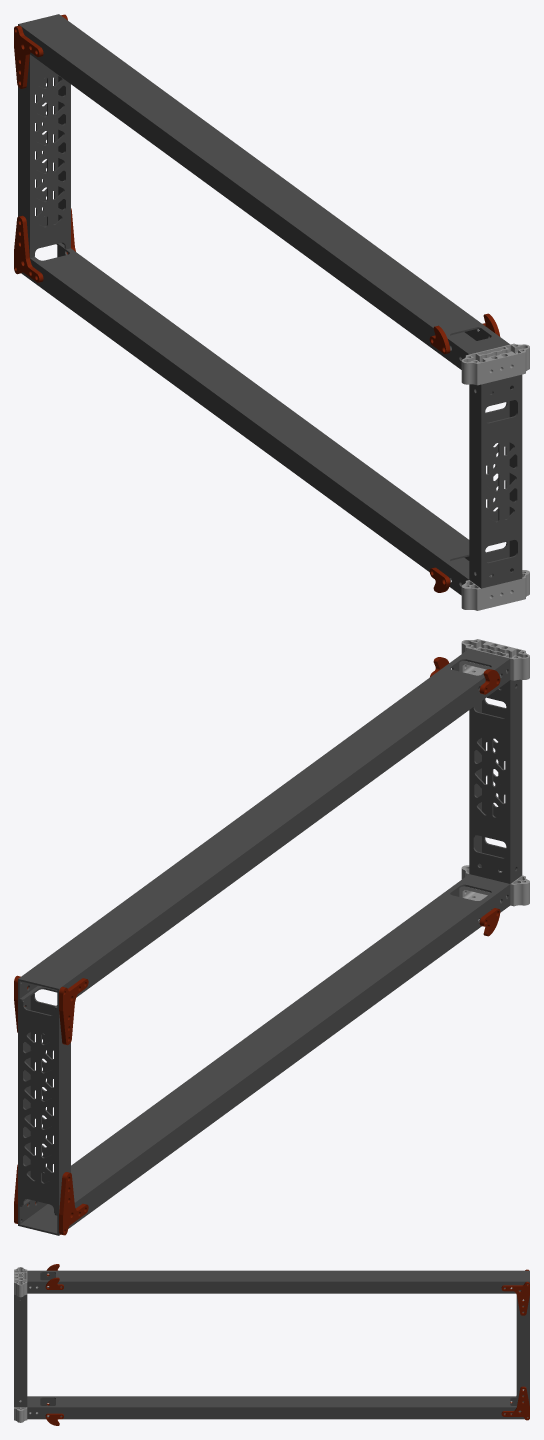
The picture shows the model from 3 angles, top to bottom: view 1: azimuth 30°, elevation 25°; view 2: azimuth 150°, elevation 25°; view 3: azimuth 270°, elevation 25°; orthographic projection. The views are drawn at different scales.
Visible parts, largest first — view 1: 0200-E-Tube-03 (×2), 0200-E-Tube-04, 0200-E-Tube-05, TR_BearingBlockV2 (×2), 0200-E-Plate-05 (×2); view 2: 0200-E-Tube-03 (×2), 0200-E-Tube-04, 0200-E-Tube-05, TR_BearingBlockV2 (×2), 0200-E-Plate-05 (×2); view 3: 0200-E-Tube-03 (×2), 0200-E-Tube-04, 0200-E-Tube-05, 0200-E-Plate-05 (×2), TR_BearingBlockV2 (×2).
Part boxes in pixels (x1=…): 0200-E-Tube-03 (×2): x1=18, y1=14, x2=509, y2=595; 0200-E-Tube-04: x1=469, y1=374, x2=522, y2=588; 0200-E-Tube-05: x1=18, y1=54, x2=70, y2=257; TR_BearingBlockV2 (×2): x1=461, y1=343, x2=529, y2=610; 0200-E-Plate-05 (×2): x1=14, y1=25, x2=43, y2=282; 0200-E-Tube-03 (×2): x1=18, y1=648, x2=510, y2=1235; 0200-E-Tube-04: x1=469, y1=679, x2=522, y2=883; 0200-E-Tube-05: x1=18, y1=993, x2=70, y2=1214; TR_BearingBlockV2 (×2): x1=459, y1=639, x2=529, y2=906; 0200-E-Plate-05 (×2): x1=59, y1=978, x2=88, y2=1235; 0200-E-Tube-03 (×2): x1=27, y1=1270, x2=529, y2=1419; 0200-E-Tube-04: x1=14, y1=1294, x2=27, y2=1407; 0200-E-Tube-05: x1=516, y1=1284, x2=529, y2=1406; 0200-E-Plate-05 (×2): x1=501, y1=1281, x2=529, y2=1420; TR_BearingBlockV2 (×2): x1=14, y1=1267, x2=38, y2=1422.
Bounding box in the file's own units: 0.0815 × 0.3083 × 0.979.
